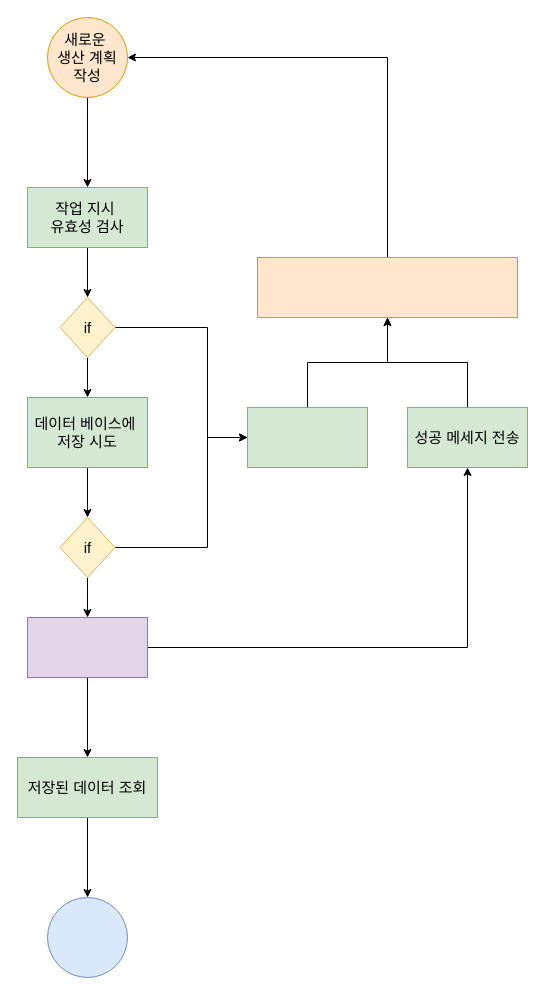
This 545x995 diagram has some shape labels left out. The shapes that lost their labels are listed below. From the top down, each one's centre as x and y in pixels, then its label:
point (387, 287): 전송 받은 메세지 표시
point (307, 437): 실패 메세지 전송
point (87, 647): 데이터 베이스에 저장
point (87, 937): 생산 계획
